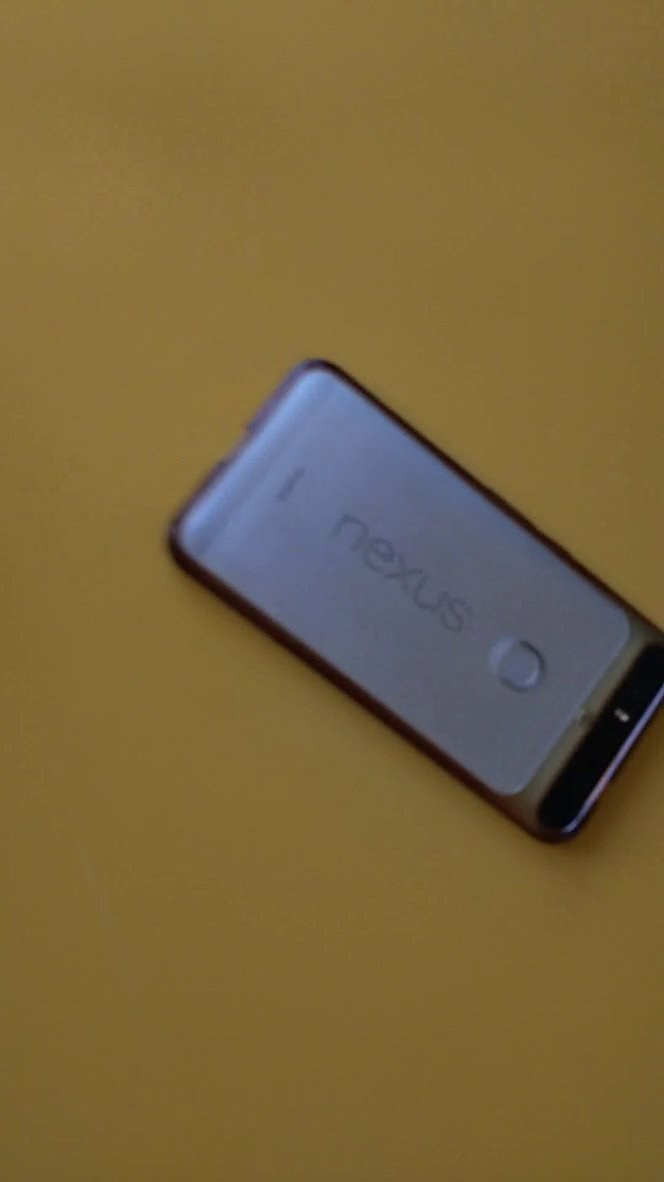phone: (144, 340, 664, 864)
